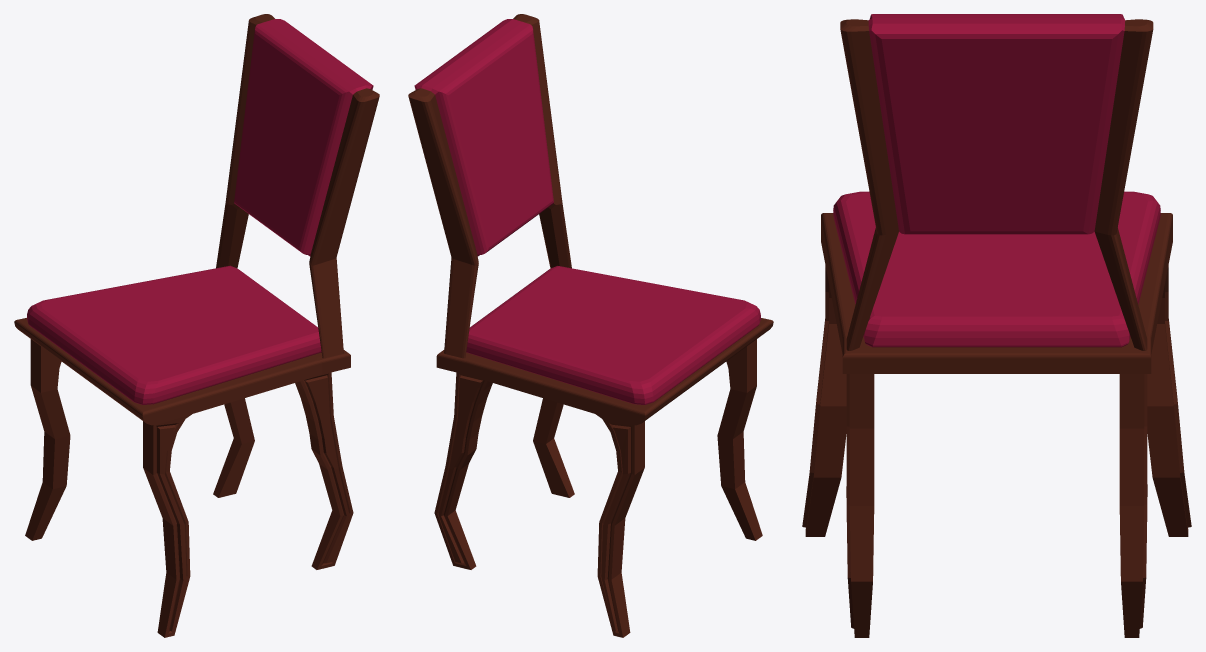
File: KitchenChair.fbx
The picture shows the model from 3 angles, left to right: view 1: azimuth 30°, elevation 25°; view 2: azimuth 150°, elevation 25°; view 3: azimuth 270°, elevation 25°; orthographic projection. The views are drawn at different scales.
Parts seen in each view (by area): view 1: Chair, ChairCushin; view 2: Chair, ChairCushin; view 3: Chair, ChairCushin.
Boxes of the visible parts, <box> form: Chair: <box>14,14,379,637</box>; ChairCushin: <box>27,265,321,404</box>; Chair: <box>408,14,773,637</box>; ChairCushin: <box>466,266,760,404</box>; Chair: <box>802,14,1191,637</box>; ChairCushin: <box>833,191,1160,347</box>.
Size of the model in its own units: 87.87 by 160 by 85.99.
